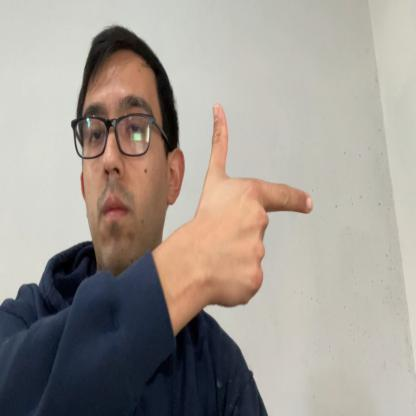G: (204, 102, 312, 309)
